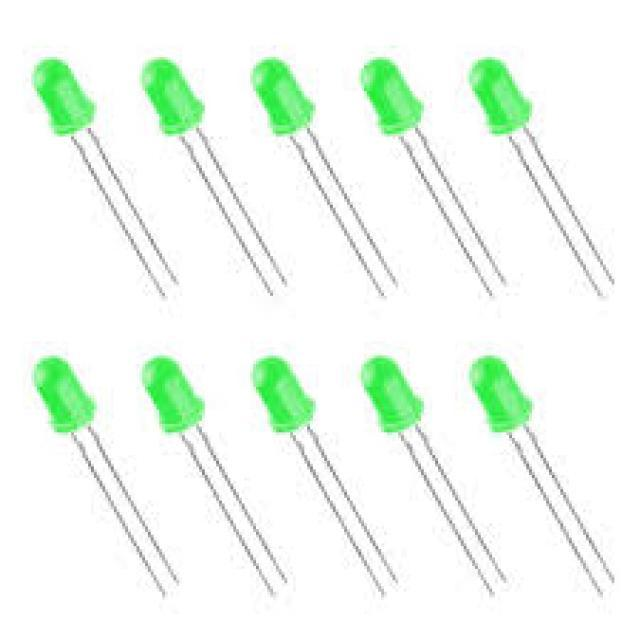Led: (361, 356, 489, 551), (252, 356, 375, 541), (142, 359, 246, 511), (470, 356, 556, 479), (361, 61, 448, 180), (252, 59, 328, 159), (142, 59, 208, 140), (34, 59, 95, 135), (470, 59, 531, 132), (35, 358, 95, 432)
